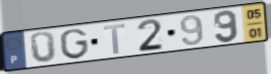0: (28, 31, 58, 65)
2: (136, 18, 165, 53)
9: (212, 9, 240, 45), (178, 14, 205, 47)
G: (58, 27, 91, 60)
T: (101, 22, 127, 56)
